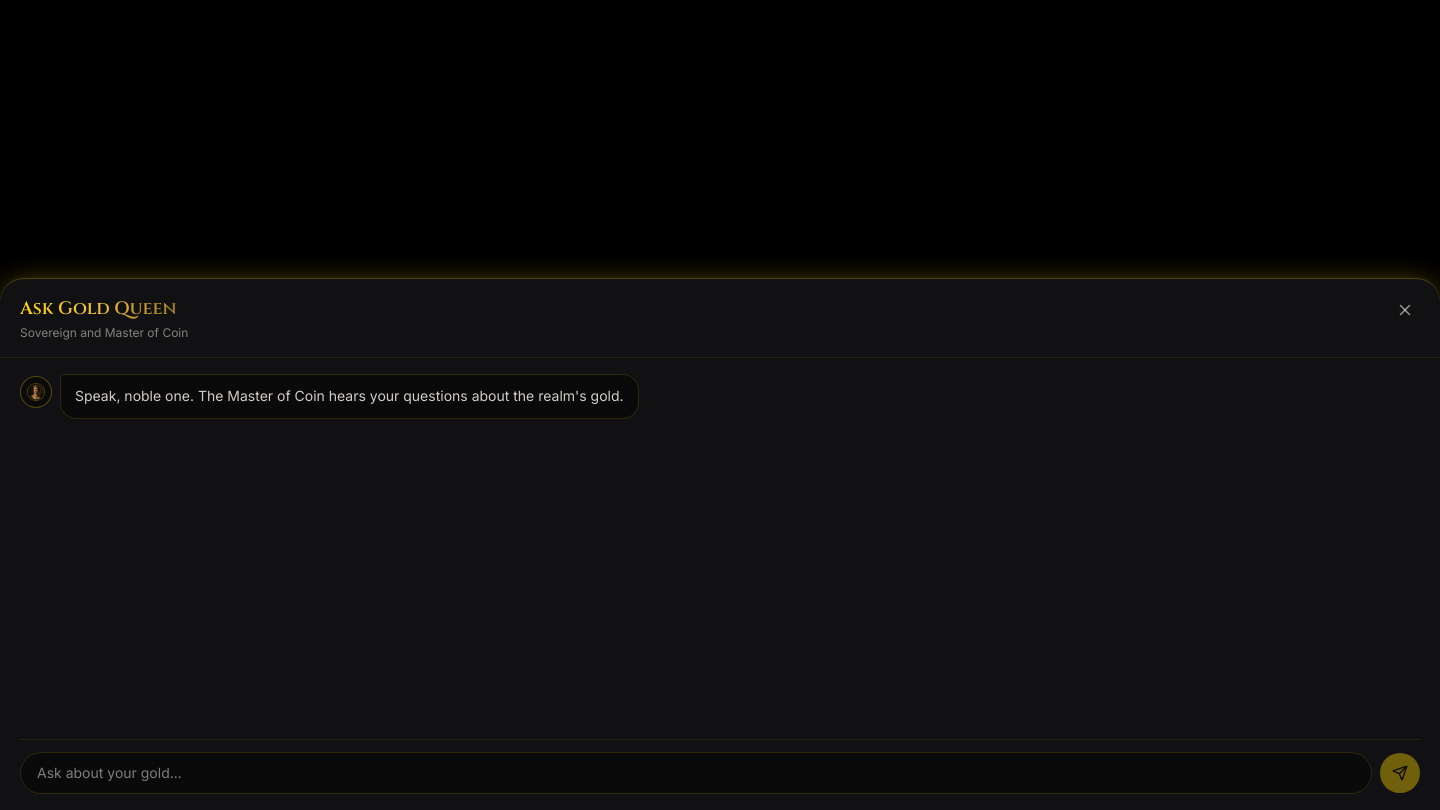
Test: ChatModal › sends a question and shows the answer with the remaining quota
This screenshot has width=1440, height=810.
Step 1. Type "hi" into the field with placeholder "Ask about your gold..." → {"x": 696, "y": 773}, box [20,752,1372,794]
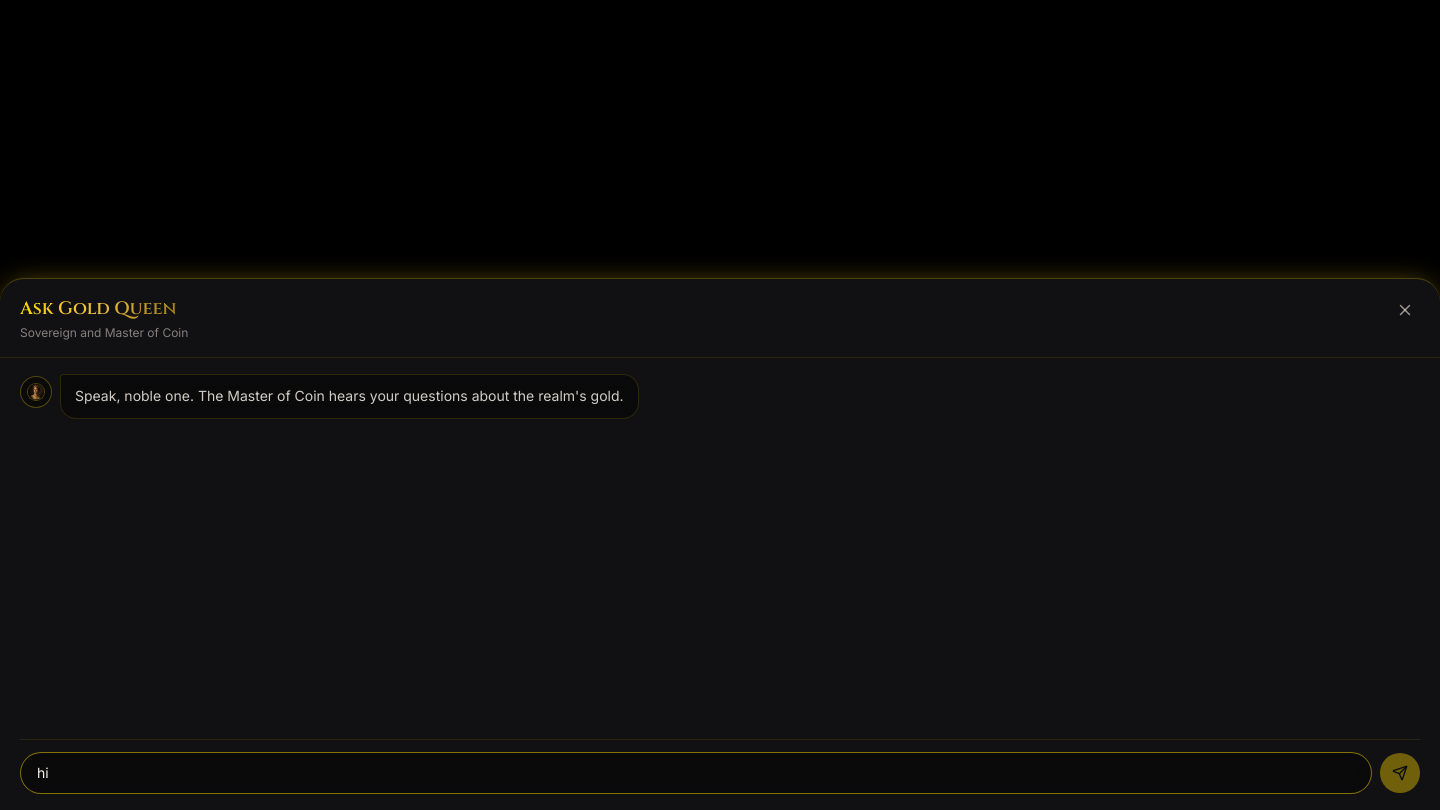
Expected: the button named "Send question" is disabled, [1380,753,1420,793]
Step 2. Type " there" into the field with placeholder "Ask about your gold..." → {"x": 696, "y": 773}, box [20,752,1372,794]
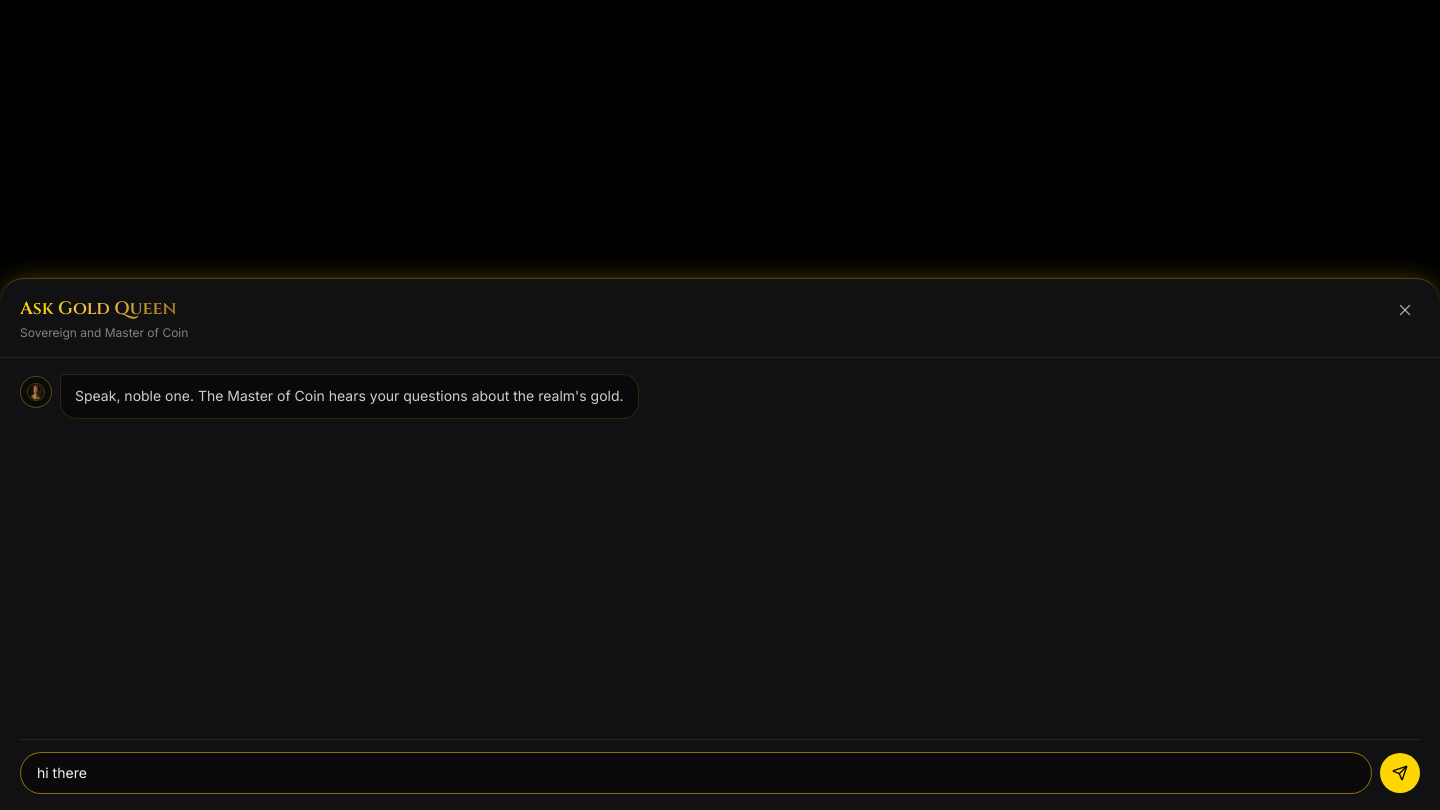
Step 3. Click the button named "Send question" → {"x": 1400, "y": 773}, box [1380,753,1420,793]
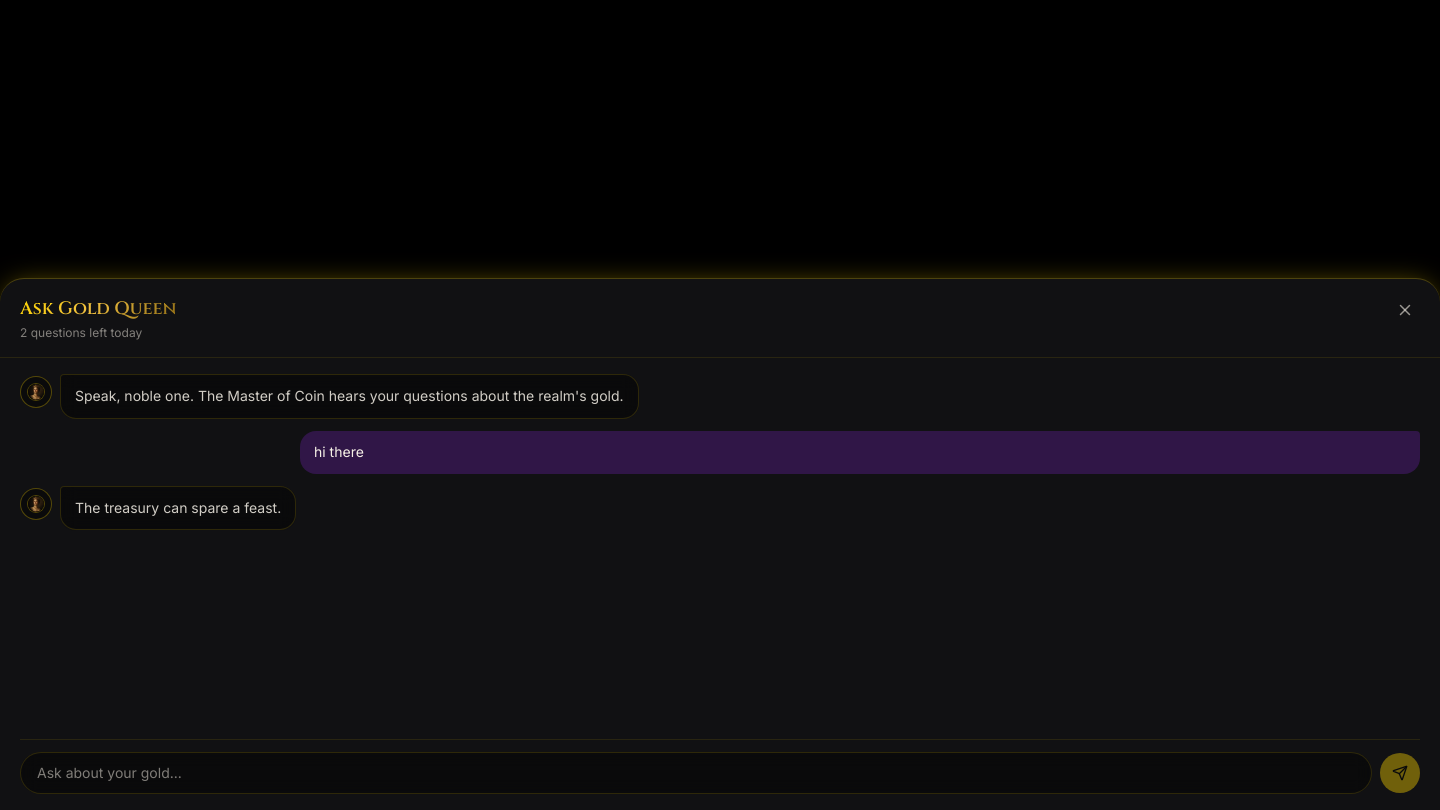
Now the text "The treasury can spare a feast." is shown, box [60,486,296,530]
Now the text "hi there" is shown, box [300,431,1420,474]
Now the text "2 questions left today" is shown, box [20,325,142,340]
